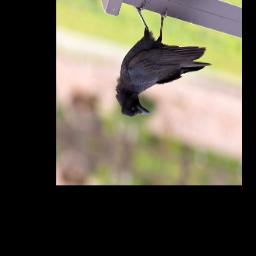Crow: (111, 0, 218, 140)
